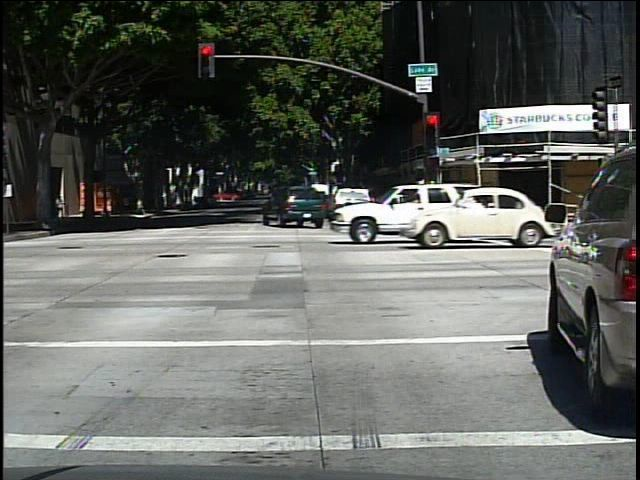person: (56, 189, 68, 223)
